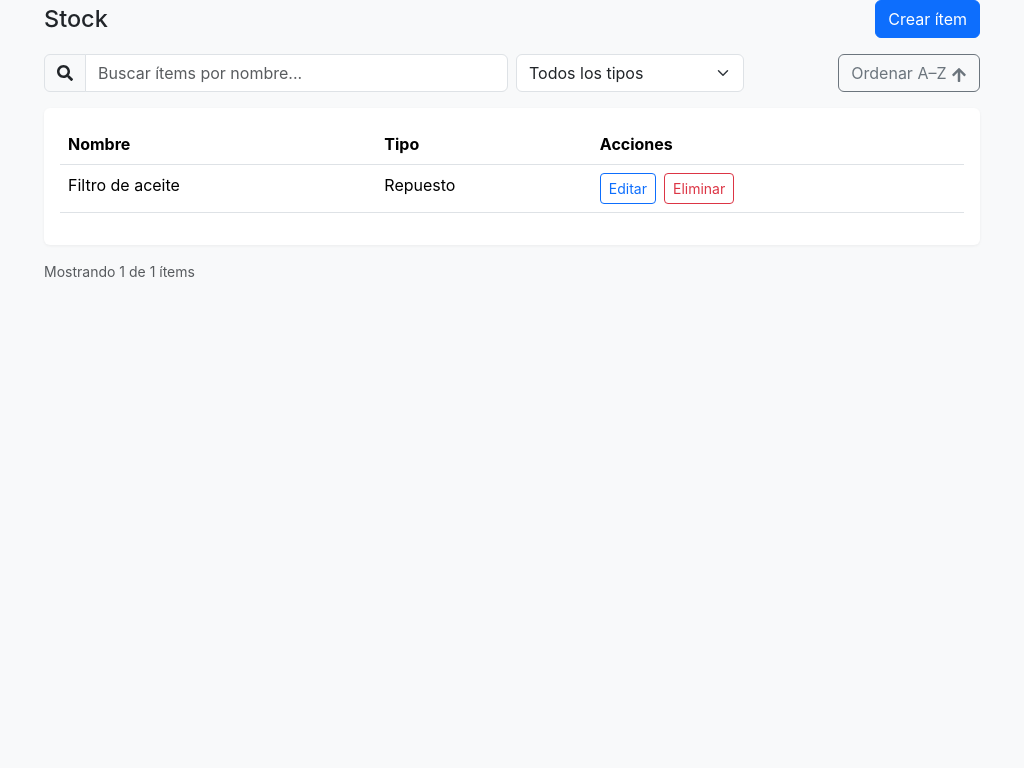
Test case: InventarioRepuestosPage › opens the create modal with name and type only in basic level
Click the button "Crear ítem" at {"x": 928, "y": 19}, box [875,0,980,38]
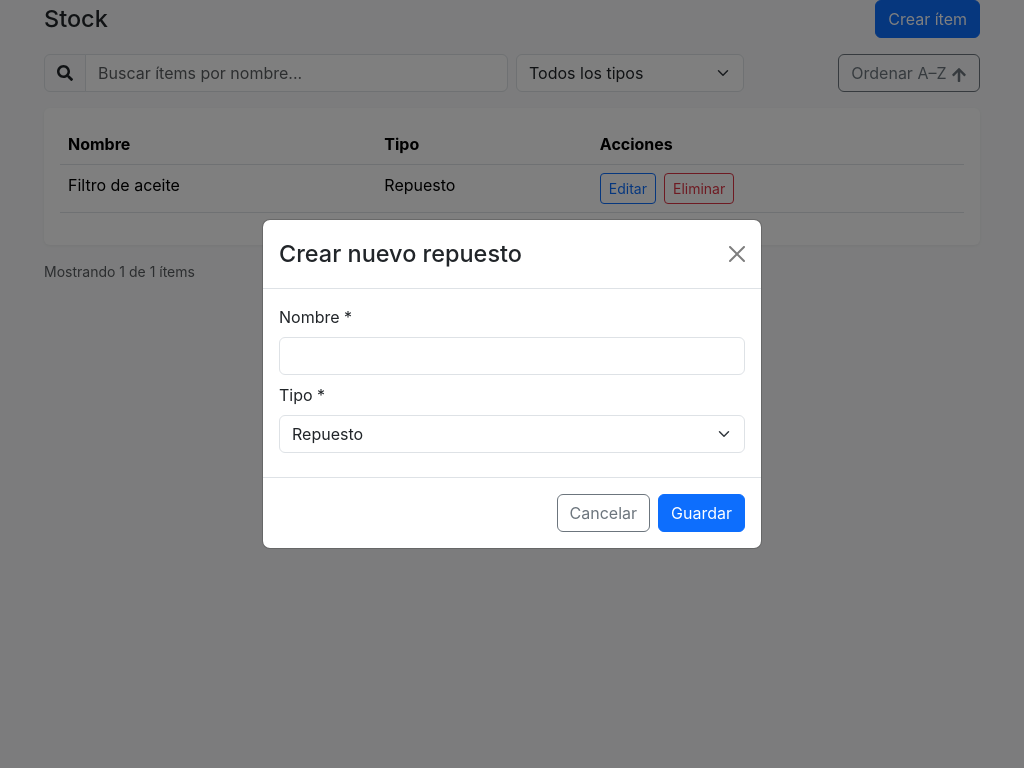
Expected: the field labelled "Nombre *" is shown, [279,337,745,375]
Expected: the dropdown labelled "Tipo *" is shown, [279,415,745,453]
